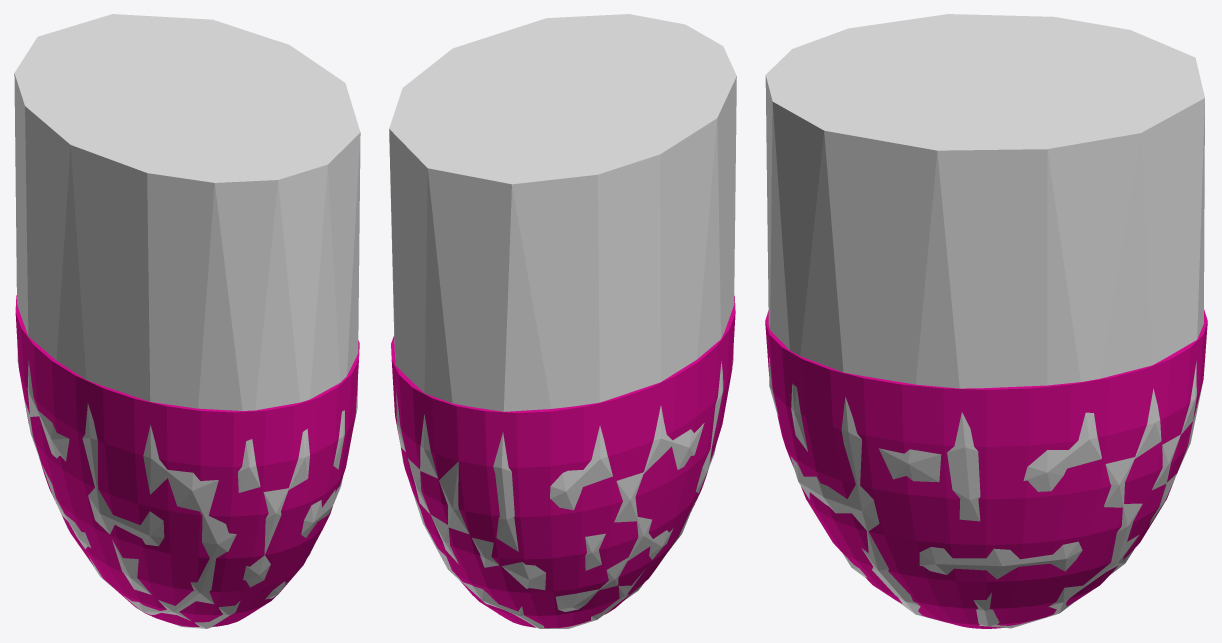
File: plugAlpha_1.fbx
The picture shows the model from 3 angles, left to right: view 1: azimuth 30°, elevation 25°; view 2: azimuth 150°, elevation 25°; view 3: azimuth 270°, elevation 25°; orthographic projection. The views are drawn at different scales.
Visible parts, largest first — view 1: Ball.001, Ball; view 2: Ball.001, Ball; view 3: Ball.001, Ball.
Part boxes in pixels (x1,y1,x2,y2): Ball.001: (14, 14, 360, 628); Ball: (15, 295, 359, 626); Ball.001: (389, 14, 736, 628); Ball: (391, 296, 735, 628); Ball.001: (765, 14, 1204, 628); Ball: (765, 309, 1207, 628).
Bounding box in the file's own units: 147 × 269 × 200.
